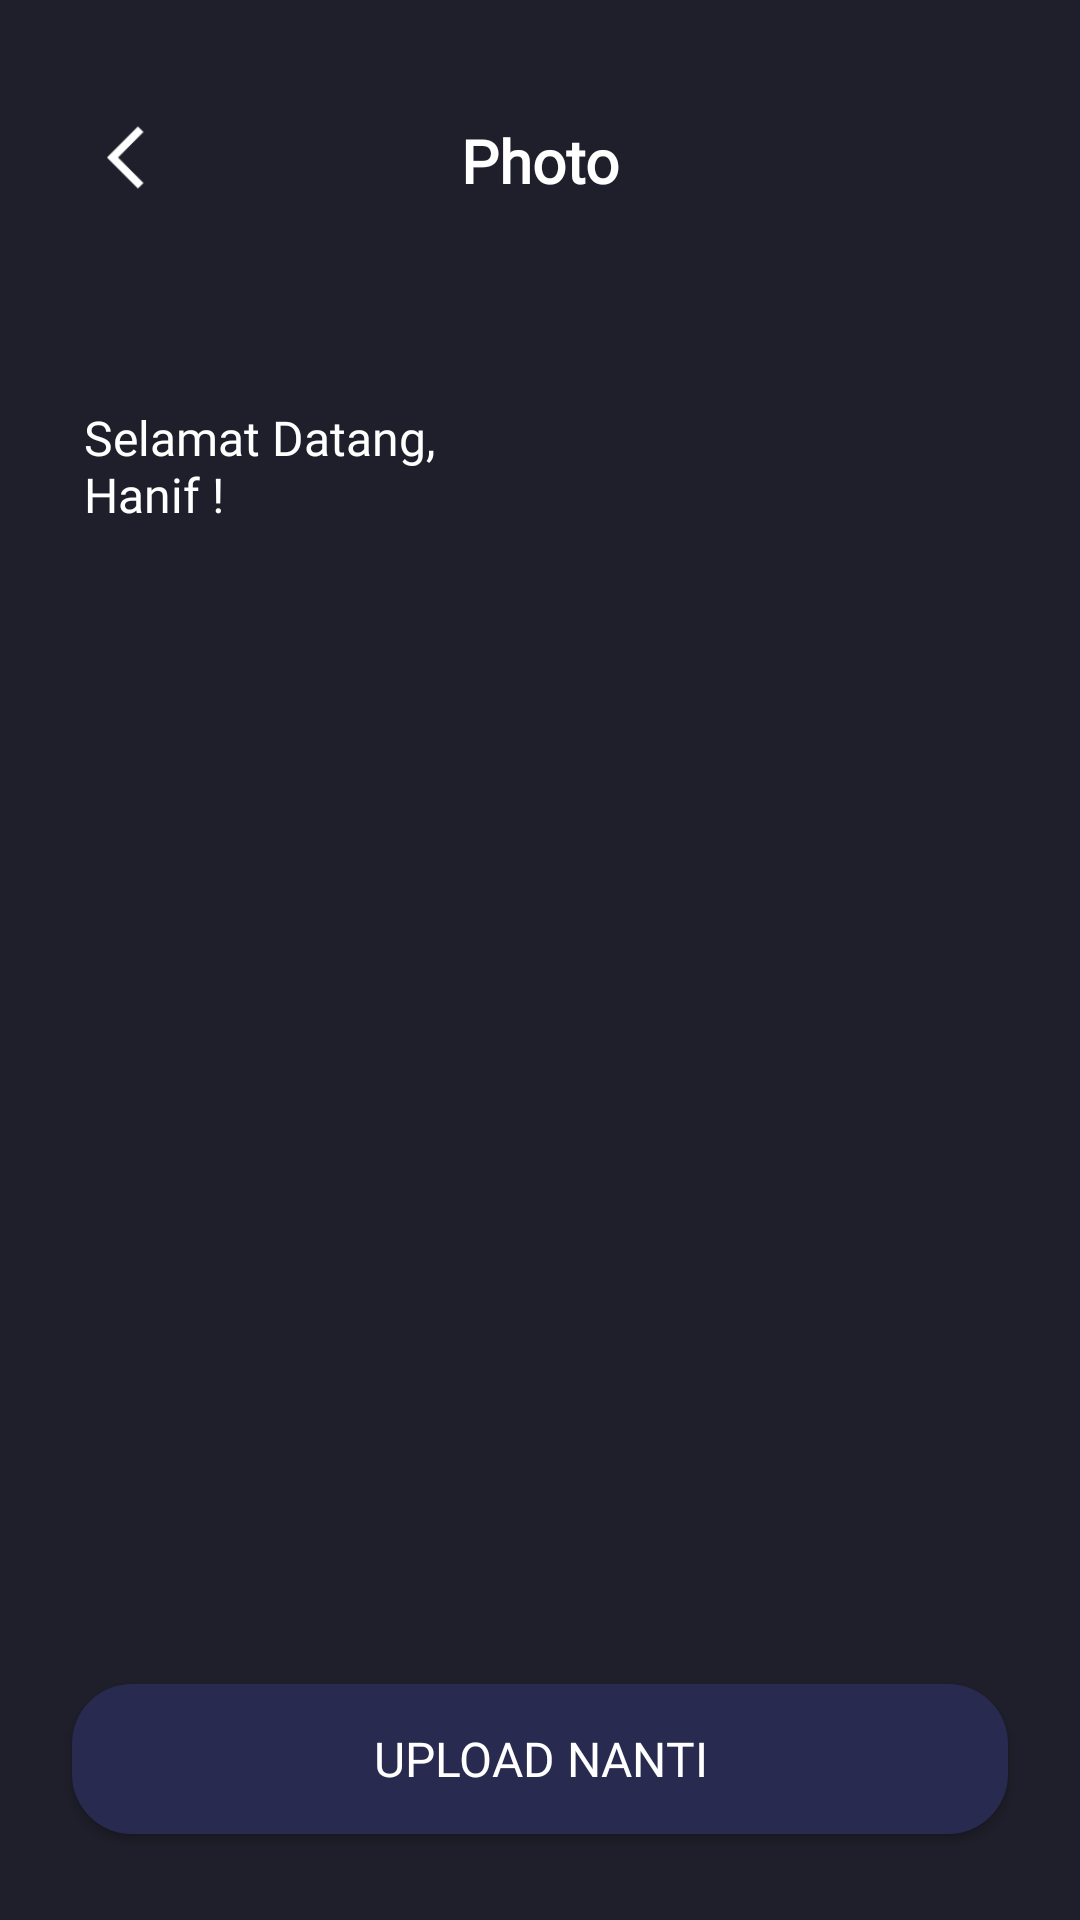

Screen size 1080x1920. Icon name, then its center in pixels as (x=x, y=y):
arrow back: (x=125, y=157)
